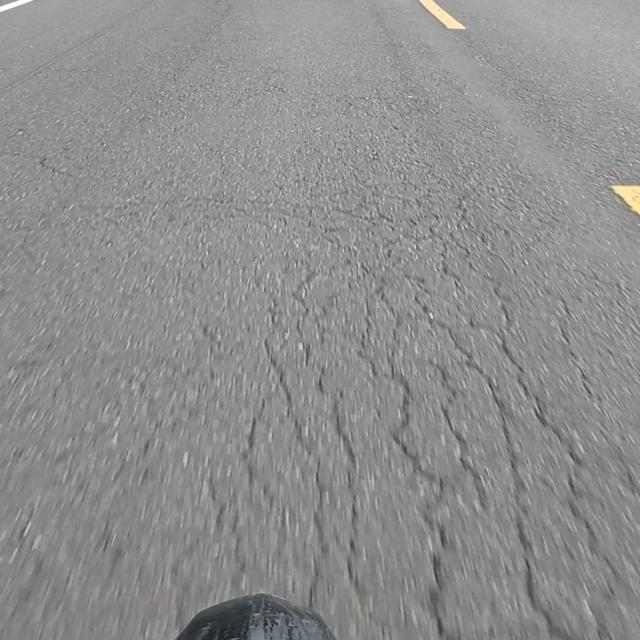Retak Buaya: (229, 240, 640, 640)
